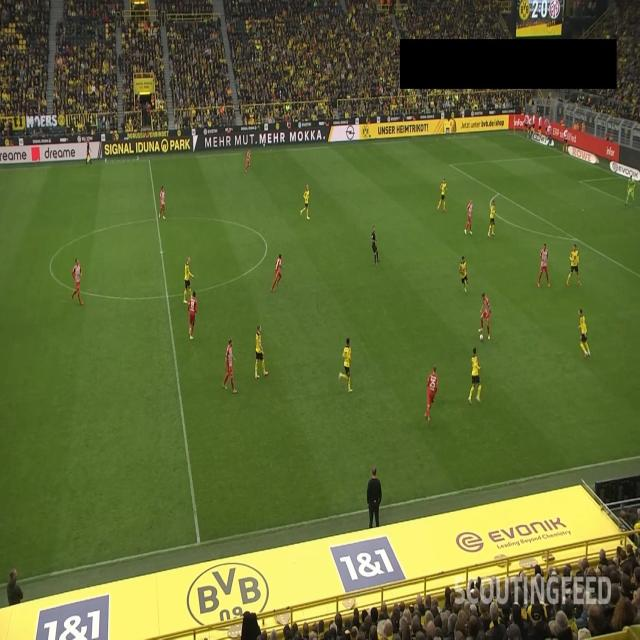ball: (479, 332, 484, 342)
